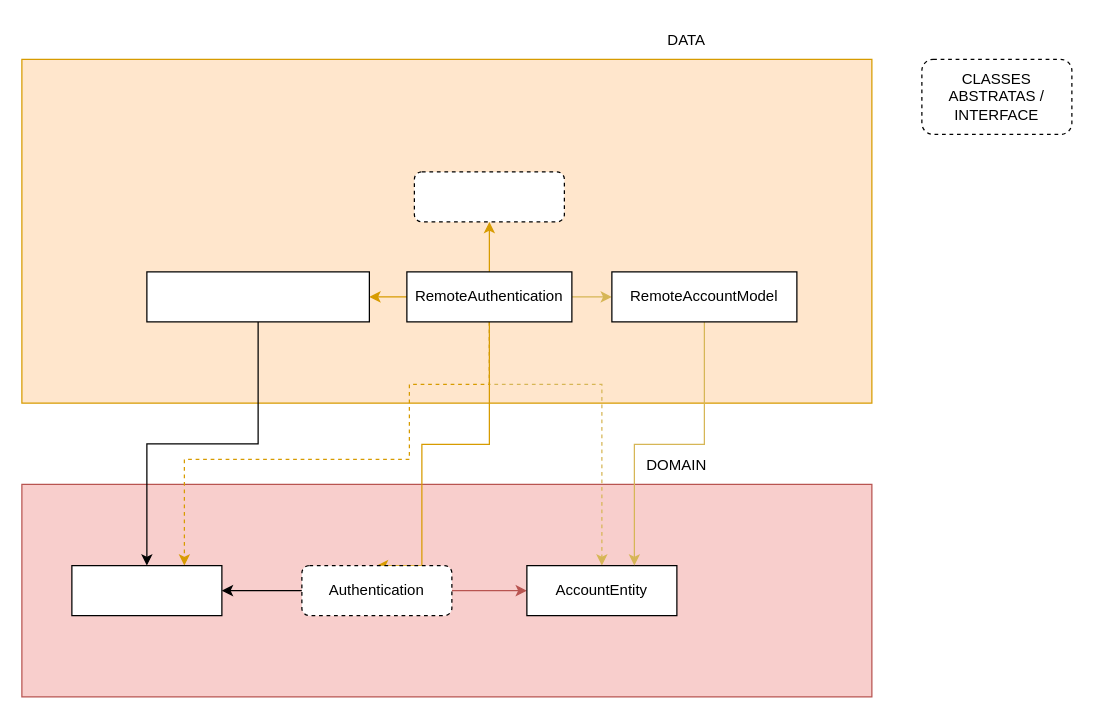
This 1094x719 diagram has some shape labels left out. Here are the shapes that lost their labels. From the top down, the centre of each, then its label:
At point (488, 196): "HttpClient".
At point (257, 296): "RemoteAuthenticationParams".
At point (146, 590): "AuthenticationParams".
